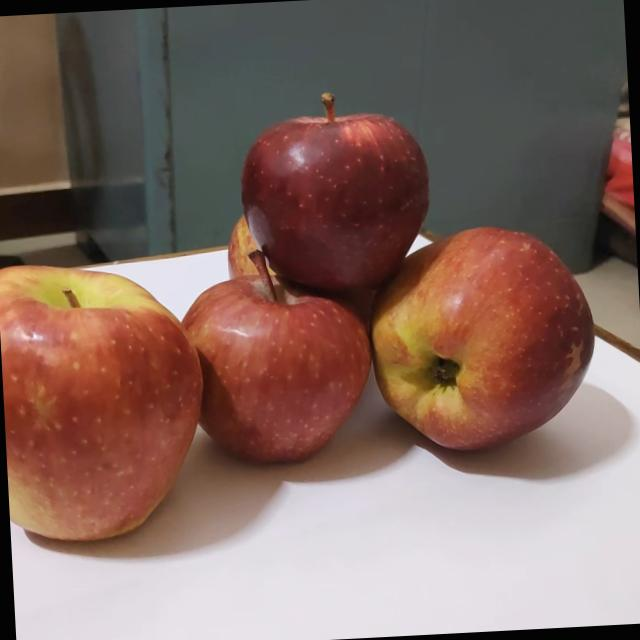apple: (348, 215, 598, 457), (0, 249, 199, 546), (223, 78, 436, 301), (168, 238, 366, 469), (218, 199, 282, 280)
